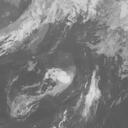cyclone: (9, 67, 100, 124)
